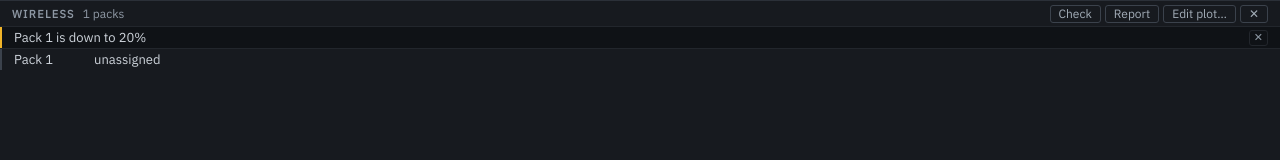
RfPanel › shows only the wireless alarms and dismisses one
The image size is (1280, 160).
Click the button with class "rf-alert-dismiss" at (1258, 38), box [1249,30,1268,46]
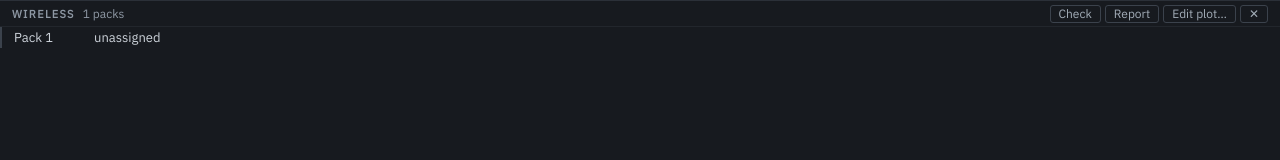
expect the element with class "rf-alerts" is gone: met
